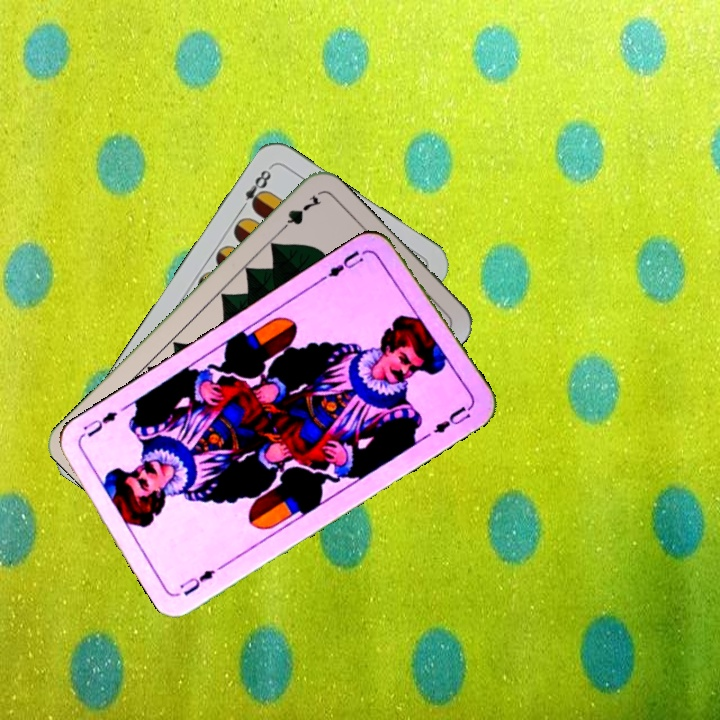E8: (235, 162, 275, 215)
EU: (318, 245, 372, 282), (175, 565, 218, 598)
G7: (274, 190, 324, 237)
